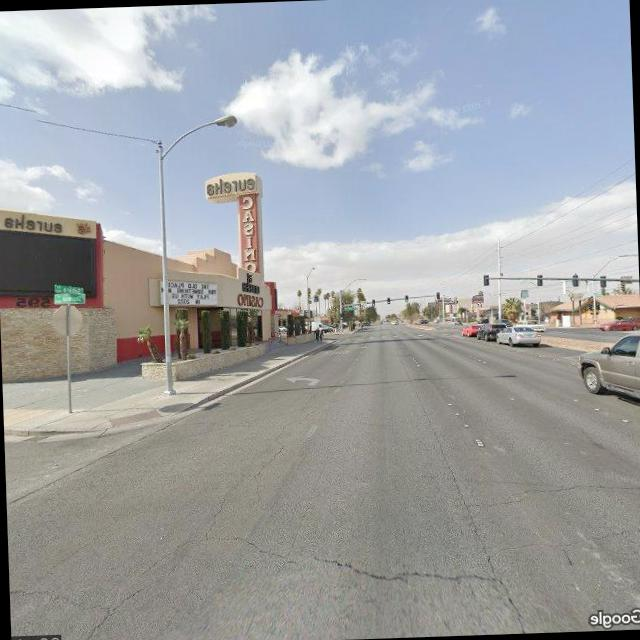crack: (63, 414, 304, 640), (214, 523, 501, 595), (466, 475, 640, 506), (492, 527, 630, 554), (10, 584, 109, 618)
